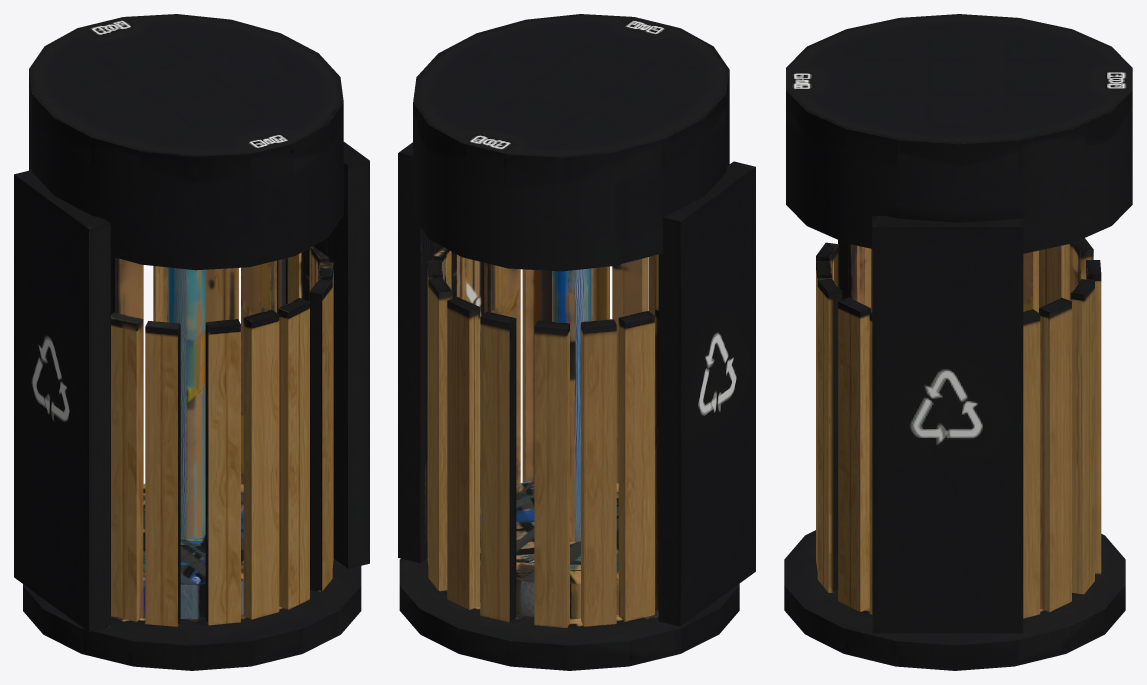
Rendered from Trash.fbx.
3 views of the same model, side by side, from view 1: azimuth 30°, elevation 25°; view 2: azimuth 150°, elevation 25°; view 3: azimuth 270°, elevation 25° (orthographic).
Visible parts, largest first — view 1: Mesh_0; view 2: Mesh_0; view 3: Mesh_0.
Part boxes in pixels (x1,y1,x2,y2): Mesh_0: (14, 14, 369, 670); Mesh_0: (398, 14, 755, 670); Mesh_0: (784, 14, 1132, 670).
Bounding box in the file's own units: 122 × 200 × 122.
1 material, 1 textured.
